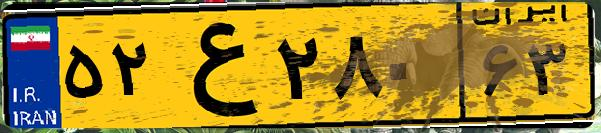0: (385, 28, 445, 110)
2: (270, 28, 330, 110), (110, 28, 158, 98)
3: (525, 38, 570, 115)
5: (57, 26, 110, 100)
6: (475, 38, 525, 113)
8: (330, 28, 385, 110)
ع: (158, 12, 270, 120)
